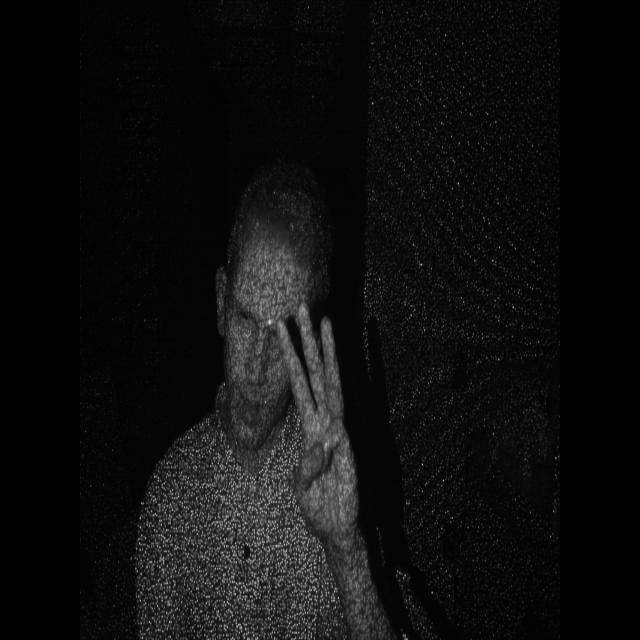W: (261, 278, 365, 551)
